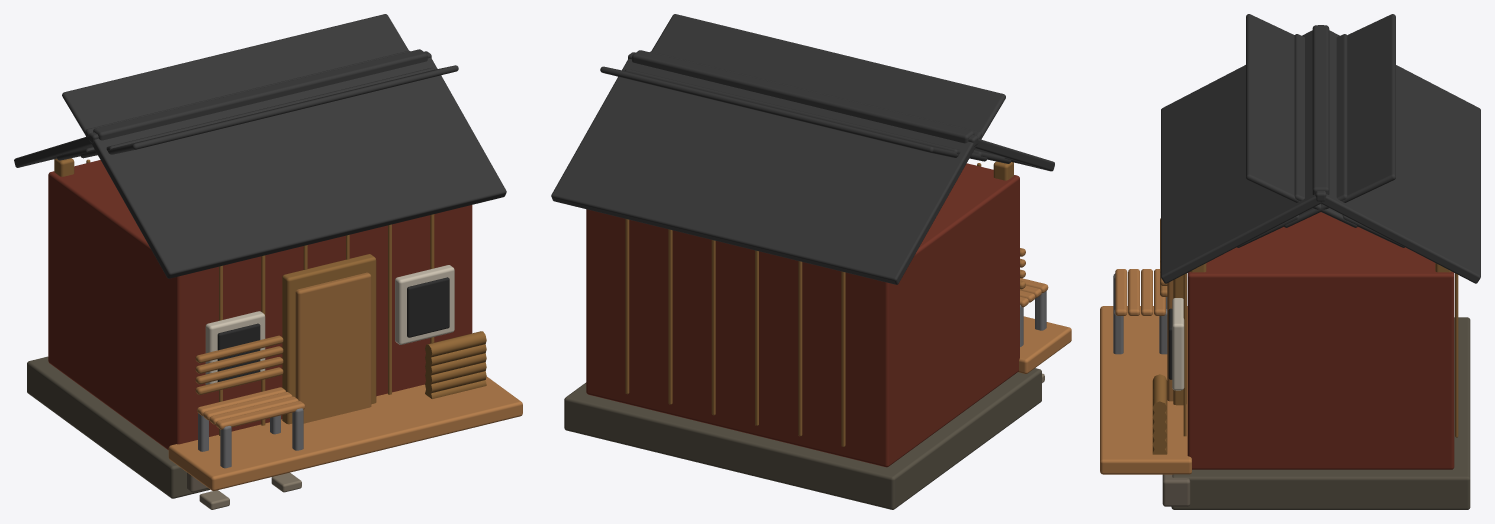
The model's file is worker-cabin.glb.
The picture shows the model from 3 angles, left to right: view 1: azimuth 30°, elevation 25°; view 2: azimuth 150°, elevation 25°; view 3: azimuth 270°, elevation 25°; orthographic projection. The views are drawn at different scales.
Parts seen in each view (by area): view 1: worker-cabin-farm-roof-slate, worker-cabin-farm-barn-red-dark, worker-cabin-farm-wood-light, worker-cabin-farm-wood, worker-cabin-farm-wood-dark, worker-cabin-farm-stone-dark, worker-cabin-farm-window, worker-cabin-farm-trim, worker-cabin-farm-metal, worker-cabin-farm-stone; view 2: worker-cabin-farm-barn-red-dark, worker-cabin-farm-roof-slate, worker-cabin-farm-stone-dark, worker-cabin-farm-wood-dark, worker-cabin-farm-wood-light, worker-cabin-farm-metal; view 3: worker-cabin-farm-barn-red-dark, worker-cabin-farm-roof-slate, worker-cabin-farm-stone-dark, worker-cabin-farm-wood-light, worker-cabin-farm-wood-dark, worker-cabin-farm-trim, worker-cabin-farm-metal, worker-cabin-farm-rock, worker-cabin-farm-wood.
Boxes of the visible parts, x1,y1,x2,y2 form: worker-cabin-farm-roof-slate: (14,14,506,278); worker-cabin-farm-barn-red-dark: (48,160,472,449); worker-cabin-farm-wood-light: (168,376,522,490); worker-cabin-farm-wood: (195,272,371,423); worker-cabin-farm-wood-dark: (54,158,486,435); worker-cabin-farm-stone-dark: (27,356,210,498); worker-cabin-farm-window: (217,277,449,381); worker-cabin-farm-trim: (205,265,454,384); worker-cabin-farm-metal: (198,408,303,468); worker-cabin-farm-stone: (199,472,301,509); worker-cabin-farm-barn-red-dark: (586,163,1019,467); worker-cabin-farm-roof-slate: (551,14,1054,284); worker-cabin-farm-stone-dark: (564,368,1041,509); worker-cabin-farm-wood-dark: (625,161,1013,446); worker-cabin-farm-wood-light: (1018,278,1071,373); worker-cabin-farm-metal: (1020,291,1046,346); worker-cabin-farm-barn-red-dark: (1187,212,1454,469); worker-cabin-farm-roof-slate: (1161,14,1480,283); worker-cabin-farm-stone-dark: (1171,317,1470,509); worker-cabin-farm-wood-light: (1100,269,1191,474); worker-cabin-farm-wood-dark: (1152,263,1458,454); worker-cabin-farm-trim: (1172,298,1184,390); worker-cabin-farm-metal: (1113,273,1167,354); worker-cabin-farm-rock: (1162,474,1190,506); worker-cabin-farm-wood: (1160,218,1173,401).
Bounding box in the file's own units: 4.35 × 4.03 × 4.14.
